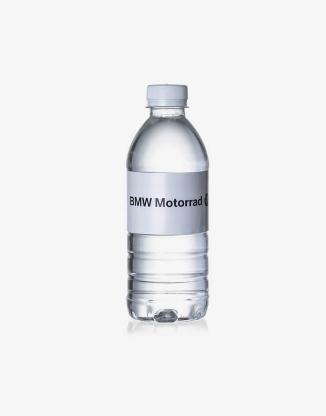Plastic Bottle: (127, 84, 209, 323)
